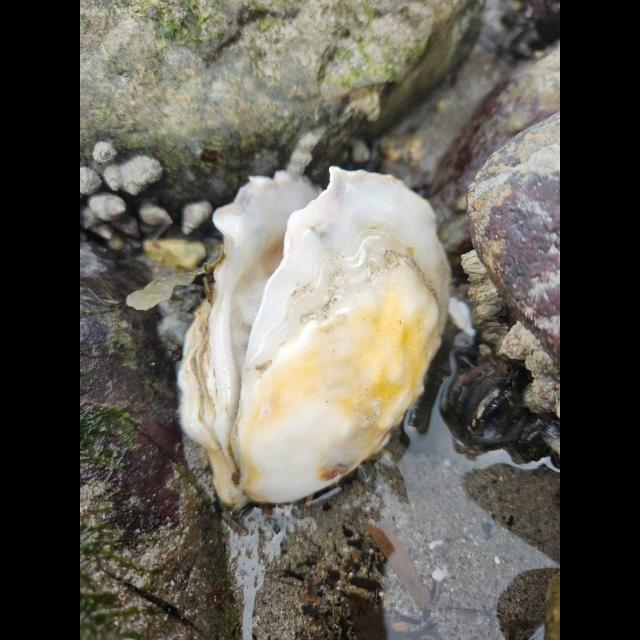Oyster-Open: (176, 164, 454, 510)
